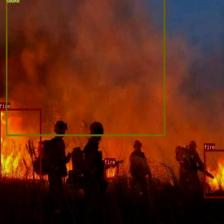fire: (0, 108, 41, 180), (203, 149, 224, 198), (104, 164, 119, 179)
smoke: (6, 0, 165, 136)
